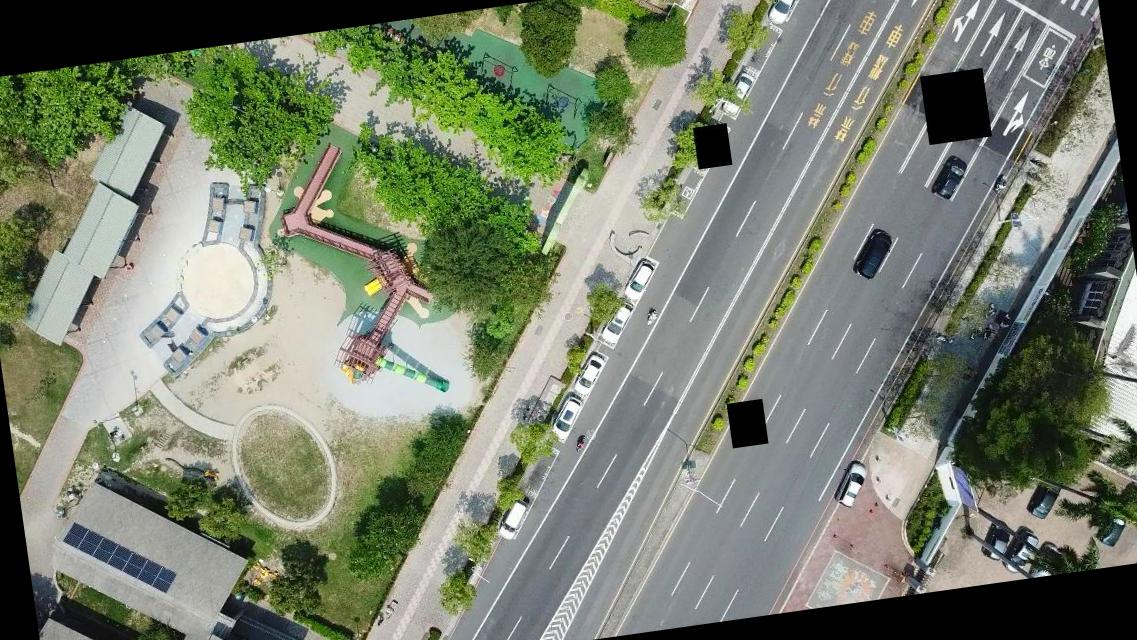vehicle: (849, 229, 893, 280), (997, 530, 1043, 575), (830, 462, 870, 508), (930, 154, 967, 202), (494, 494, 531, 542), (548, 393, 586, 439), (1024, 482, 1066, 522), (720, 72, 759, 115), (978, 520, 1016, 562), (568, 355, 605, 397), (620, 257, 656, 300), (1092, 510, 1130, 550), (600, 301, 636, 343), (1026, 542, 1066, 578), (763, 0, 807, 30)
